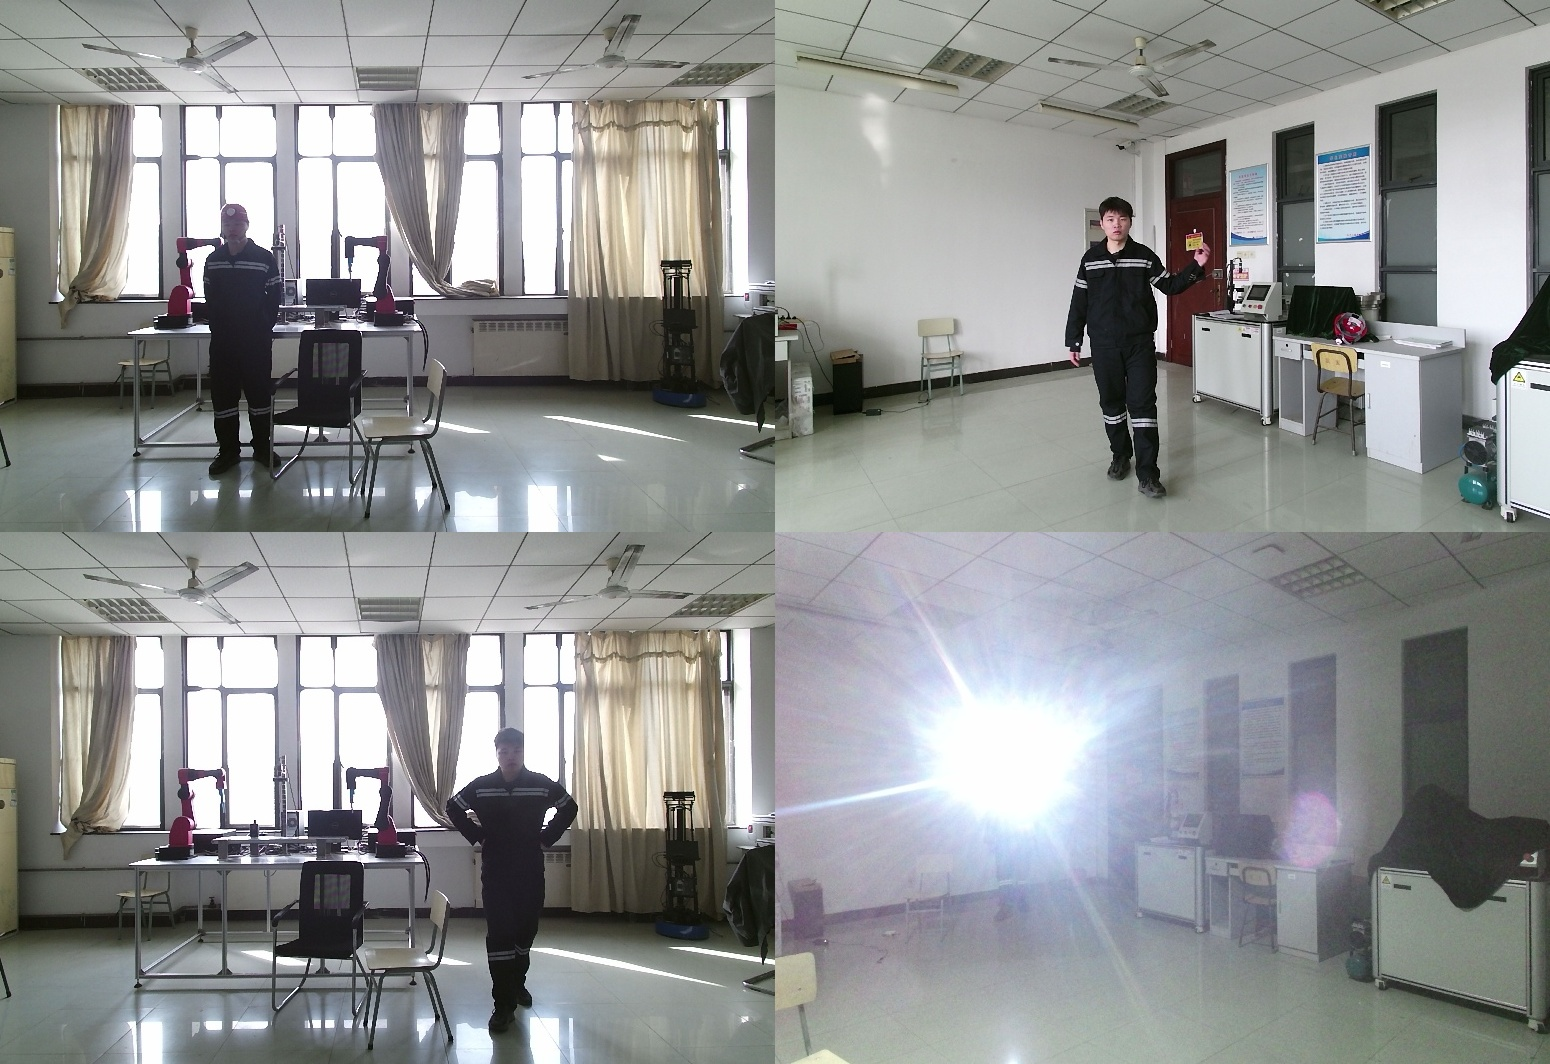person: (1047, 197, 1231, 492), (448, 729, 589, 1030), (204, 205, 289, 478), (984, 759, 1041, 924)
